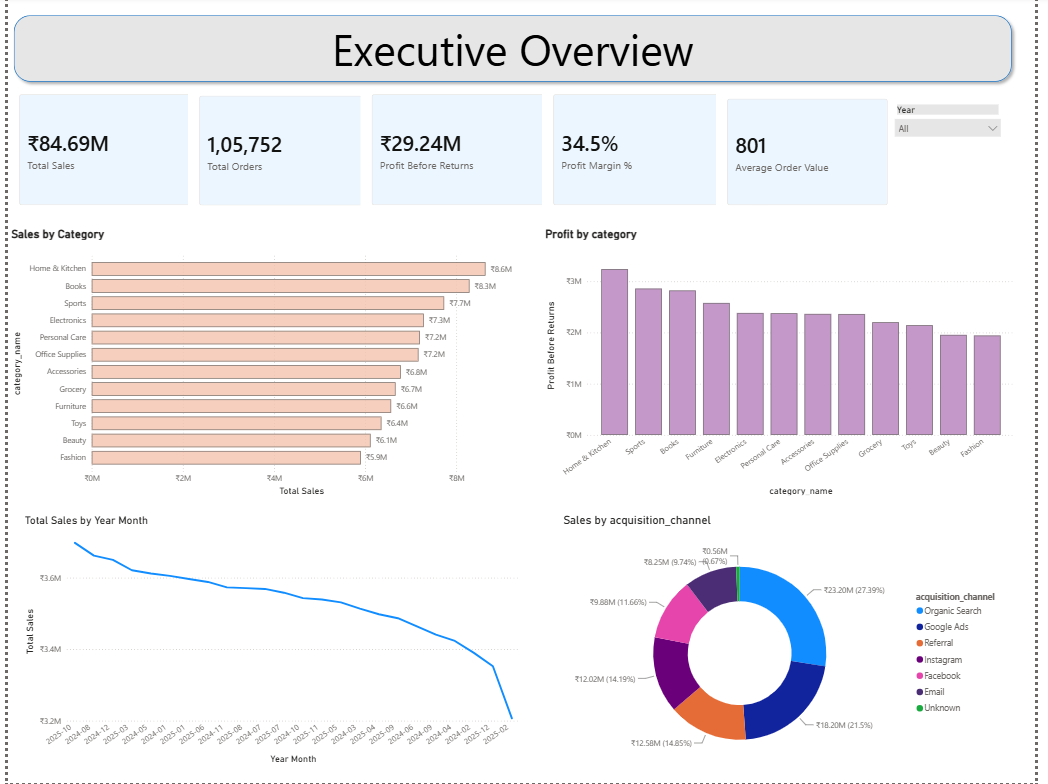

The dashboard page shown, as its layout file describes it:
{"tool":"powerbi","page":{"name":"Executive Overview","canvas":[1600,1225],"ordinal":0},"visuals":[{"type":"cardVisual","fields":{"Data":["DateTable.Total Sales"]},"box":[0,135.4,317.5,207.8],"z":0},{"type":"cardVisual","fields":{"Data":["DateTable.Total Orders"]},"box":[280.2,137.8,305.9,205.5],"z":1000},{"type":"cardVisual","fields":{"Data":["DateTable.Profit Before Returns"]},"box":[548.7,135.4,310.5,207.8],"z":2000},{"type":"cardVisual","fields":{"Data":["DateTable.Profit Margin %"]},"box":[831.2,135.4,301.2,207.8],"z":3000},{"type":"cardVisual","fields":{"Data":["DateTable.Average Order Value"]},"box":[1102.1,142.4,284.9,200.8],"z":4000},{"type":"lineChart","fields":{"Category":["DateTable.Year Month"],"Y":["DateTable.Total Sales"]},"box":[21,805.5,779.8,394.6],"z":5000},{"type":"clusteredBarChart","title":"Sales by Category","fields":{"Category":["categories.category_name"],"Y":["DateTable.Total Sales"]},"box":[0,359.6,800.9,422.6],"z":6000},{"type":"clusteredColumnChart","title":"Profit by category","fields":{"Category":["categories.category_name"],"Y":["DateTable.Profit Before Returns"]},"box":[831.2,359.6,740.2,422.6],"z":7000},{"type":"slicer","fields":{"Values":["DateTable.Year"]},"box":[1370.6,163.4,184.5,179.8],"z":8000},{"type":"donutChart","title":"Sales by acquisition_channel","fields":{"Category":["marketing.acquisition_channel"],"Y":["DateTable.Total Sales"]},"box":[859.2,805.5,695.8,403.9],"z":9000},{"type":"shape","box":[0,21,1571.4,121.4],"z":10000}]}

Visuals, with their boxes in screenshot pixels (x1, y1, x2, y2), scaled from the page's 1600x1225 canvas onto the 1048x784 screenshot:
cardVisual - DateTable.Total Sales: box=[0, 87, 208, 220]
cardVisual - DateTable.Total Orders: box=[184, 88, 384, 220]
cardVisual - DateTable.Profit Before Returns: box=[359, 87, 563, 220]
cardVisual - DateTable.Profit Margin %: box=[544, 87, 742, 220]
cardVisual - DateTable.Average Order Value: box=[722, 91, 908, 220]
lineChart - DateTable.Year Month x DateTable.Total Sales: box=[14, 516, 525, 768]
"Sales by Category" clusteredBarChart: box=[0, 230, 525, 501]
"Profit by category" clusteredColumnChart: box=[544, 230, 1029, 501]
slicer - DateTable.Year: box=[898, 105, 1019, 220]
"Sales by acquisition_channel" donutChart: box=[563, 516, 1019, 774]
shape: box=[0, 13, 1029, 91]
